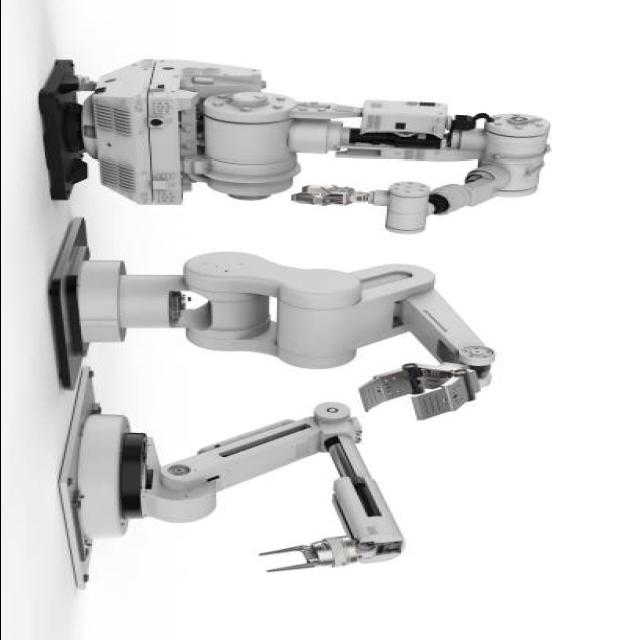Robotic-arm: (35, 44, 587, 232), (60, 242, 520, 409), (55, 396, 429, 594)
